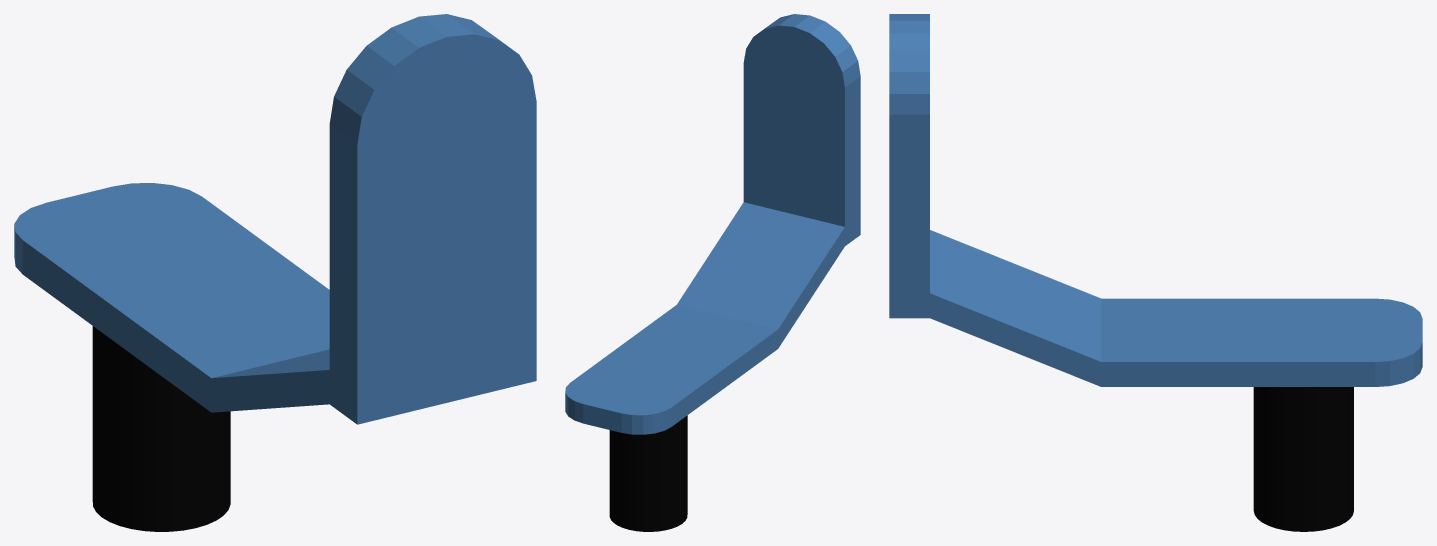
The model's file is VIS_WristLink2.dae.
3 views of the same model, side by side, from view 1: azimuth 30°, elevation 25°; view 2: azimuth 150°, elevation 25°; view 3: azimuth 270°, elevation 25° (orthographic). The views are drawn at different scales.
Parts seen in each view (by area): view 1: VIS_WristLink2; view 2: VIS_WristLink2; view 3: VIS_WristLink2.
Boxes of the visible parts, left/top/right/bottom form: VIS_WristLink2: left=14, top=14, right=536, bottom=531; VIS_WristLink2: left=565, top=14, right=860, bottom=531; VIS_WristLink2: left=889, top=14, right=1422, bottom=531.
Size of the model in its own units: 0.0327 by 0.1159 by 0.1176.
